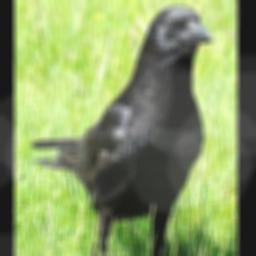Crow: (30, 1, 216, 256)
